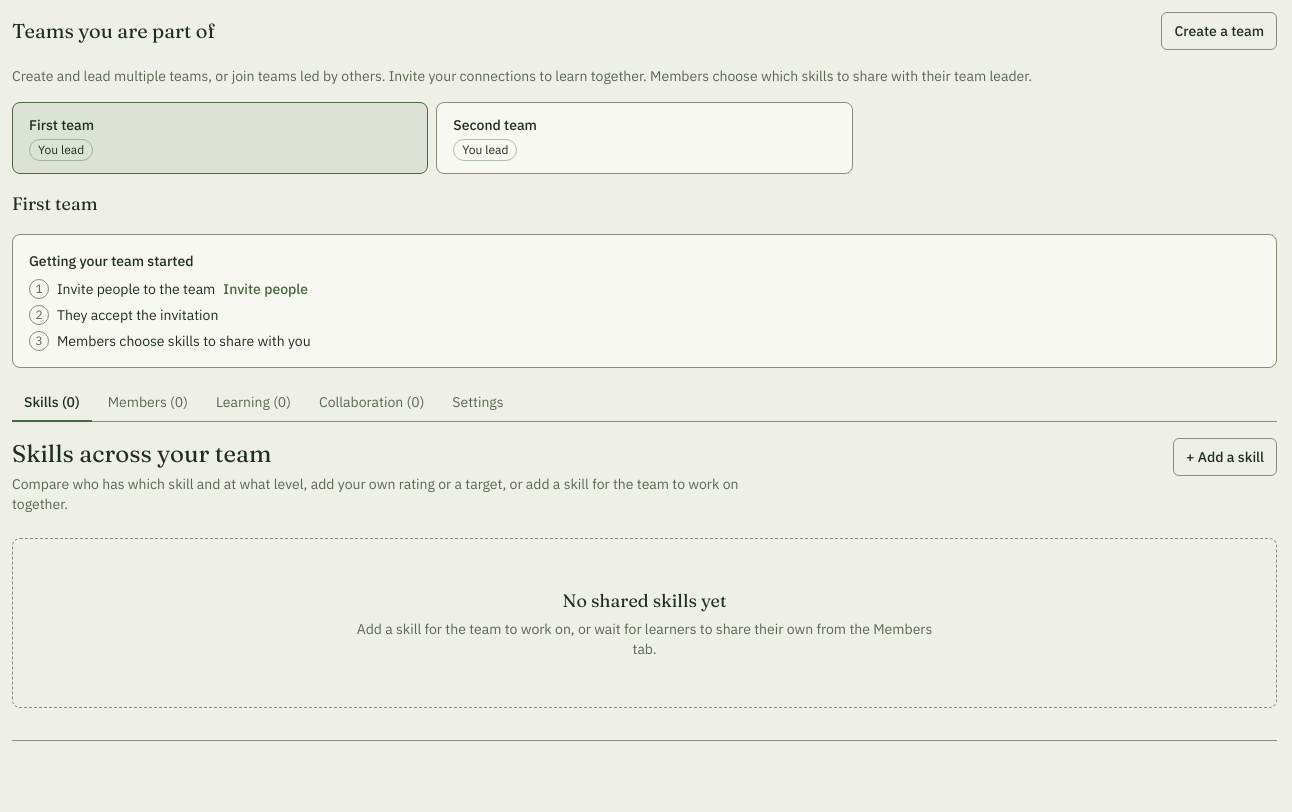
Connections teams › never shows a slow-loading team's members under another team the leader has since switched to
Click the button "Second team You lead": (495, 125) top-left (436, 102), bottom-right (853, 174)
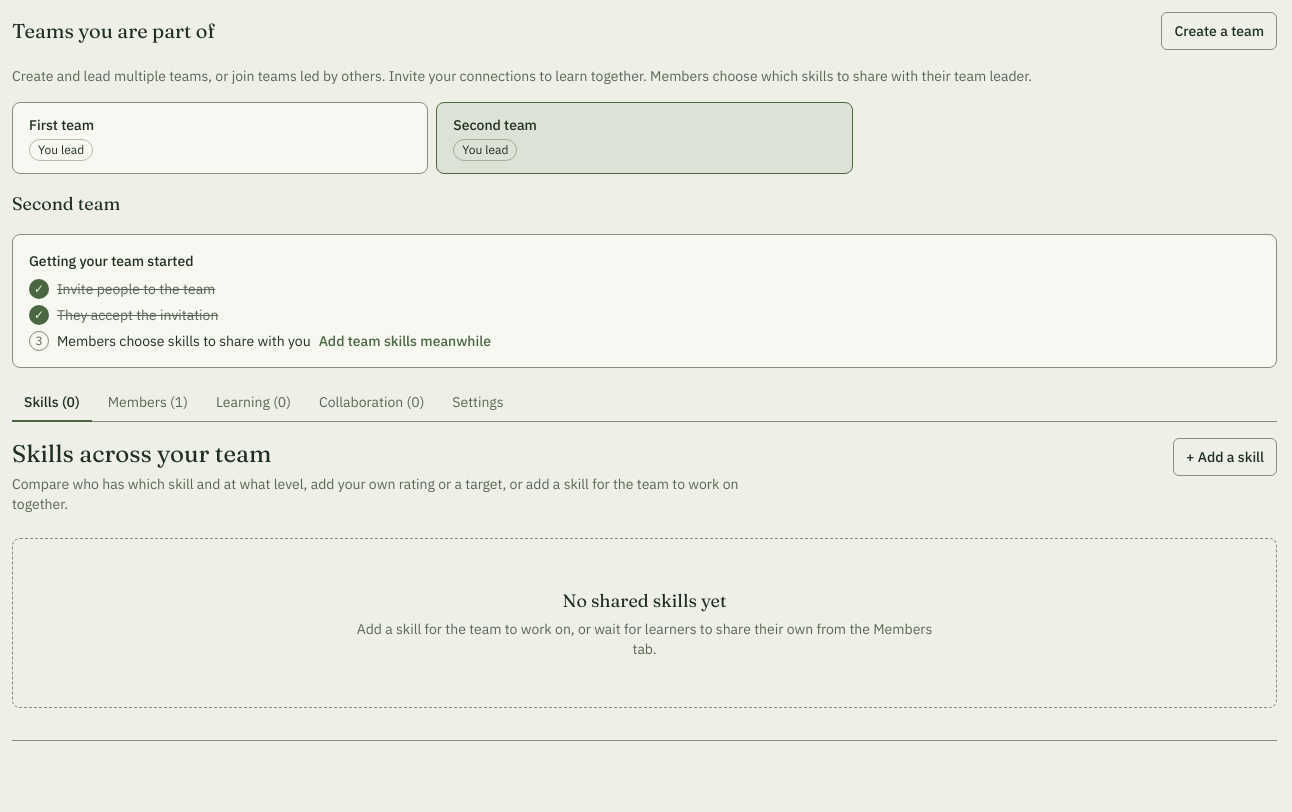
Click the tab "Members (1)": (148, 403) top-left (96, 384), bottom-right (200, 422)
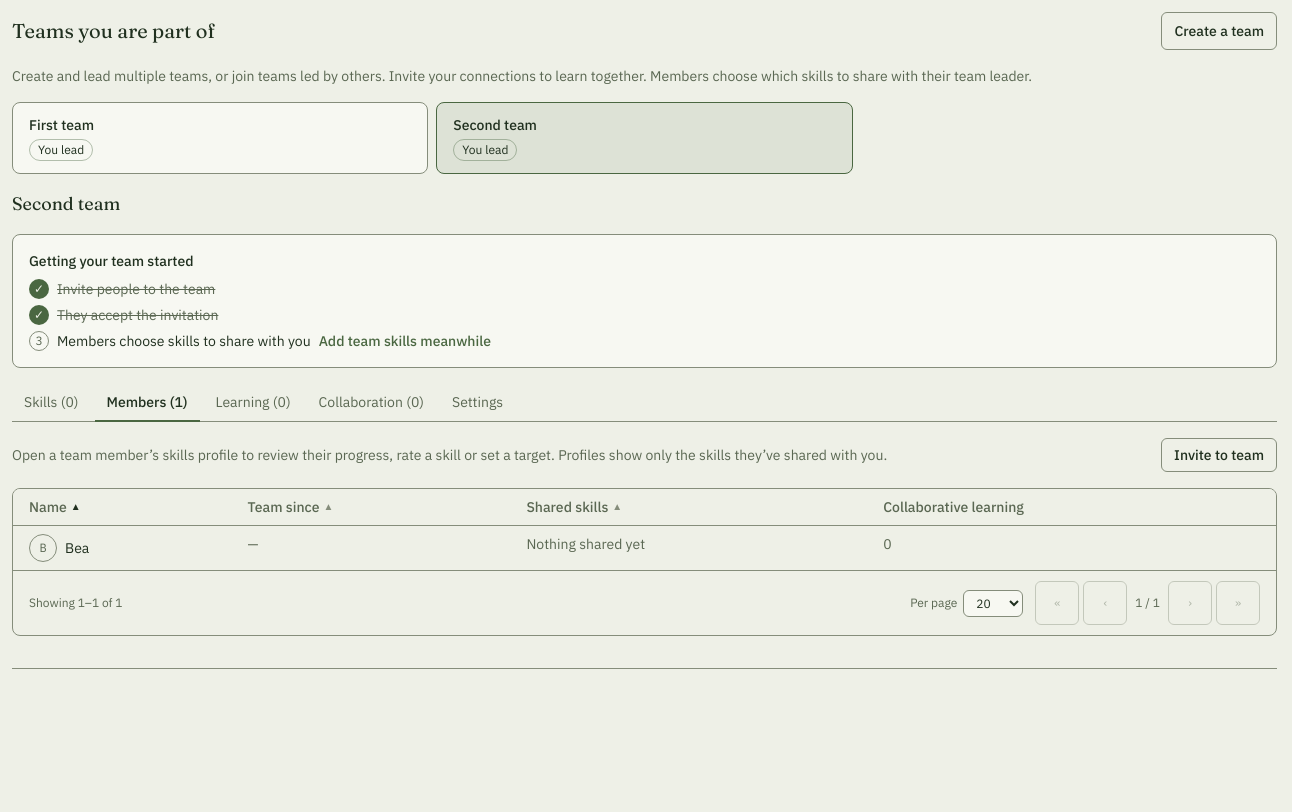
Result: the text "Bea" is shown at top-left (65, 538), bottom-right (89, 558)
